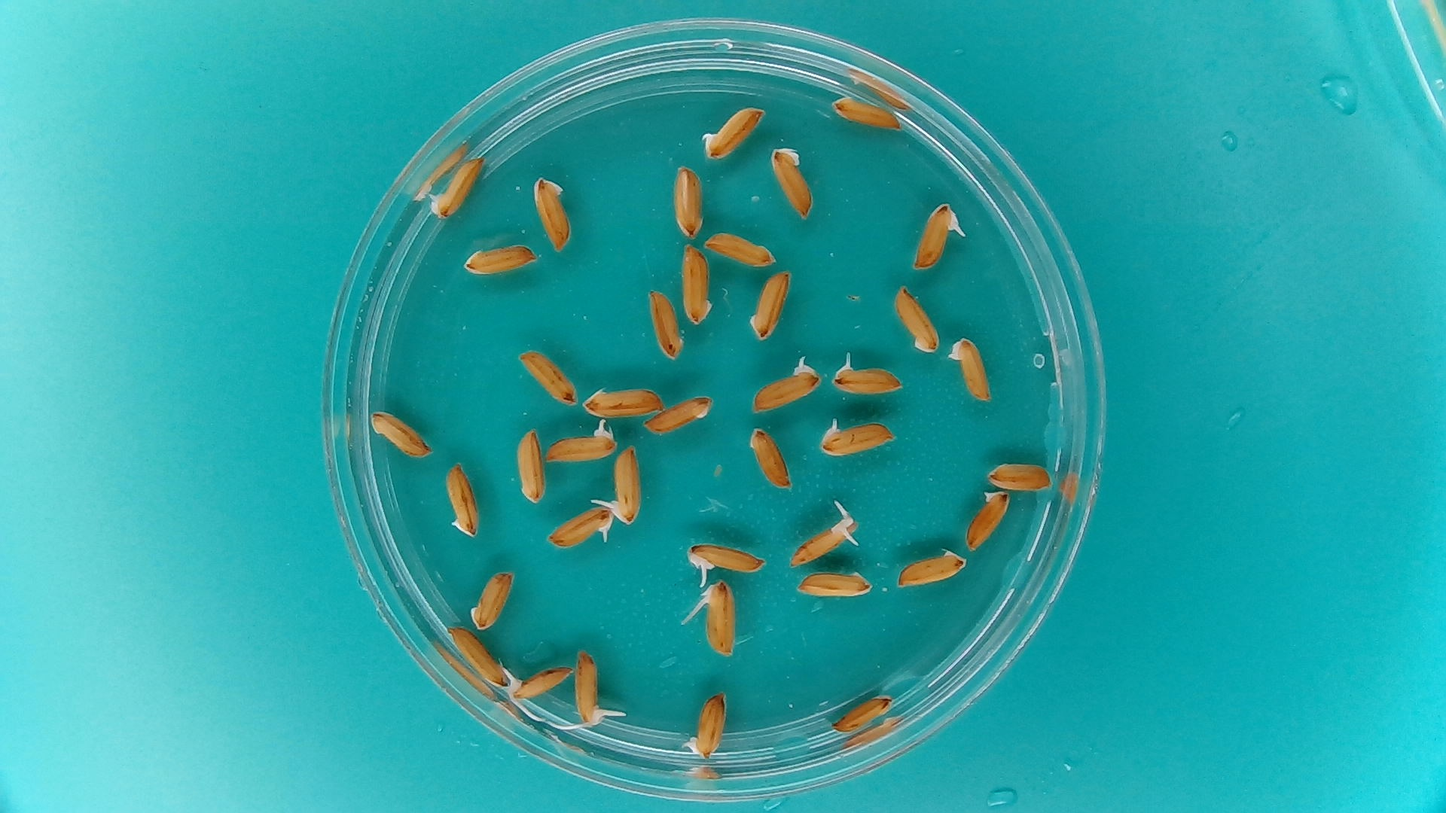no: (445, 622, 510, 688), (767, 141, 816, 221), (515, 346, 578, 406), (746, 265, 794, 342), (892, 282, 942, 355), (529, 173, 574, 254), (367, 407, 434, 459), (945, 333, 993, 404), (893, 545, 969, 589), (645, 285, 688, 361), (701, 227, 778, 269), (963, 486, 1011, 553), (746, 422, 793, 490), (642, 391, 716, 434), (460, 239, 540, 278), (679, 242, 715, 328), (468, 568, 516, 632), (668, 160, 706, 240), (443, 460, 481, 540), (828, 93, 903, 132), (579, 387, 670, 419), (829, 691, 896, 734), (514, 424, 546, 505), (795, 568, 875, 600), (984, 456, 1054, 492)
yes: (786, 504, 864, 567), (746, 352, 823, 413), (910, 199, 969, 273), (426, 151, 488, 221), (689, 575, 740, 659), (697, 100, 768, 160), (814, 414, 898, 458), (540, 418, 619, 464), (544, 501, 615, 550), (603, 442, 644, 526), (828, 352, 907, 395), (683, 540, 768, 579), (684, 690, 728, 762), (572, 646, 611, 726), (505, 662, 575, 701)
